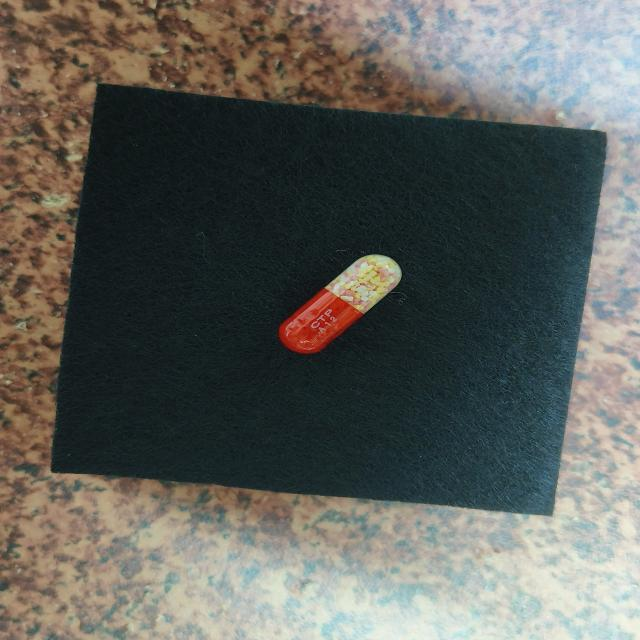Intact Capsule: (278, 254, 402, 354)
